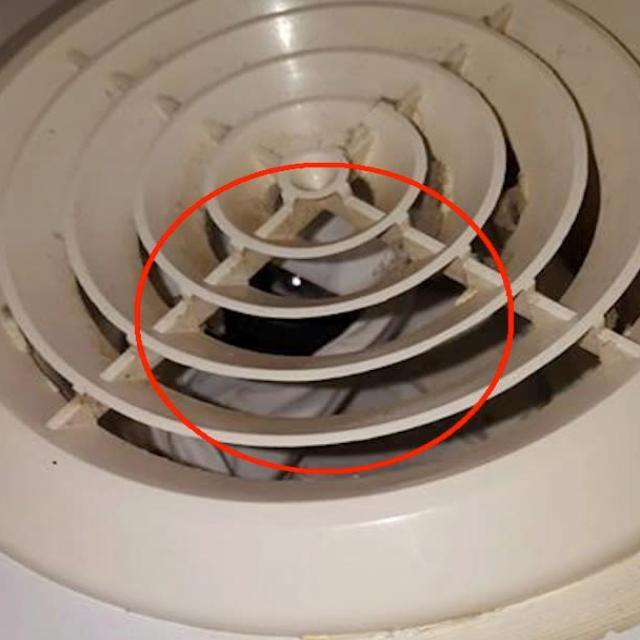hidden camera: (282, 268, 312, 298)
